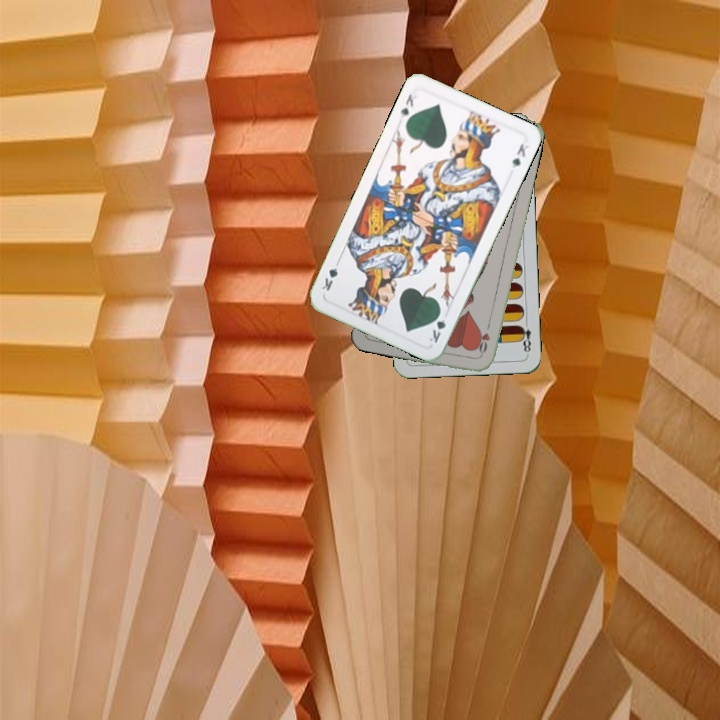E8: (516, 316, 533, 357)
GK: (425, 306, 448, 346), (396, 90, 416, 121)
HO: (475, 319, 493, 359)
